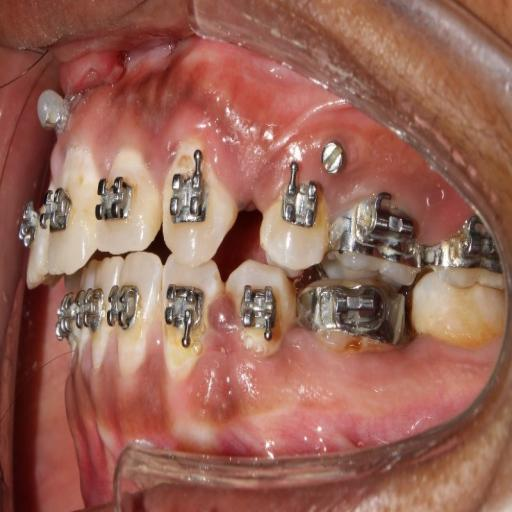correct_brace: (264, 164, 328, 272), (169, 168, 209, 230), (93, 176, 133, 220), (40, 180, 70, 234)
incorrect_brace: (98, 156, 162, 252), (280, 168, 318, 230)
